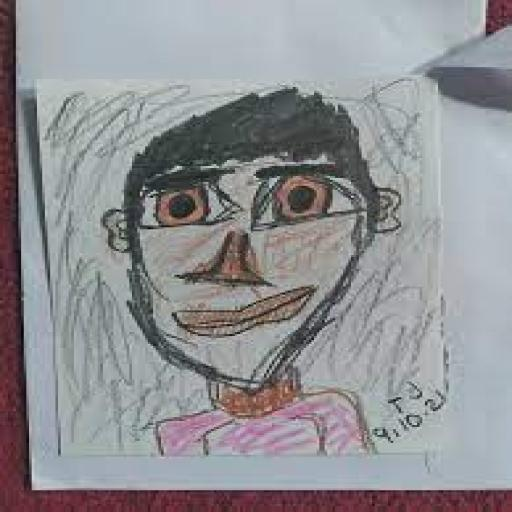person: (89, 88, 414, 468)
